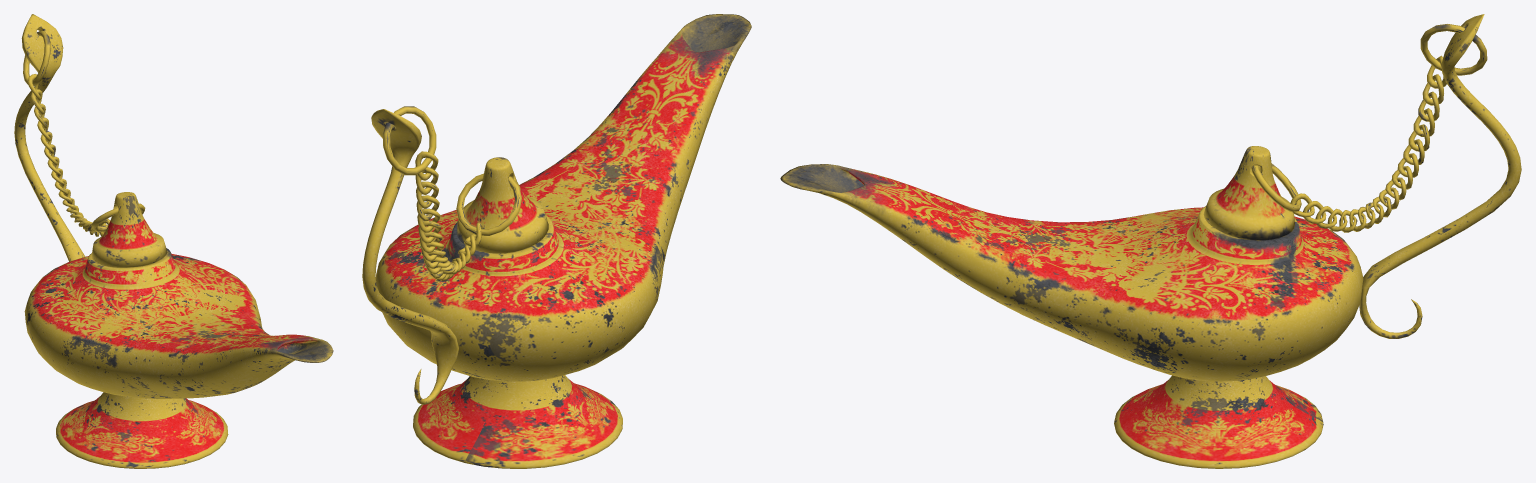
Rendered from genie_lamp.glb.
3 renders of one model, left to right at view 1: azimuth 30°, elevation 25°; view 2: azimuth 150°, elevation 25°; view 3: azimuth 270°, elevation 25°, orthographic. The views are drawn at different scales.
Parts seen in each view (by area): view 1: Lamp, Lamp_chain; view 2: Lamp, Lamp_chain; view 3: Lamp, Lamp_chain.
Boxes of the visible parts, left/top/right/bottom form: Lamp: left=14, top=14, right=333, bottom=468; Lamp_chain: left=23, top=31, right=145, bottom=236; Lamp: left=362, top=14, right=751, bottom=468; Lamp_chain: left=383, top=106, right=521, bottom=280; Lamp: left=780, top=14, right=1521, bottom=468; Lamp_chain: left=1251, top=24, right=1487, bottom=232.
Bounding box in the file's own units: 45.28 × 72.67 × 119.
1 material, 1 textured.
